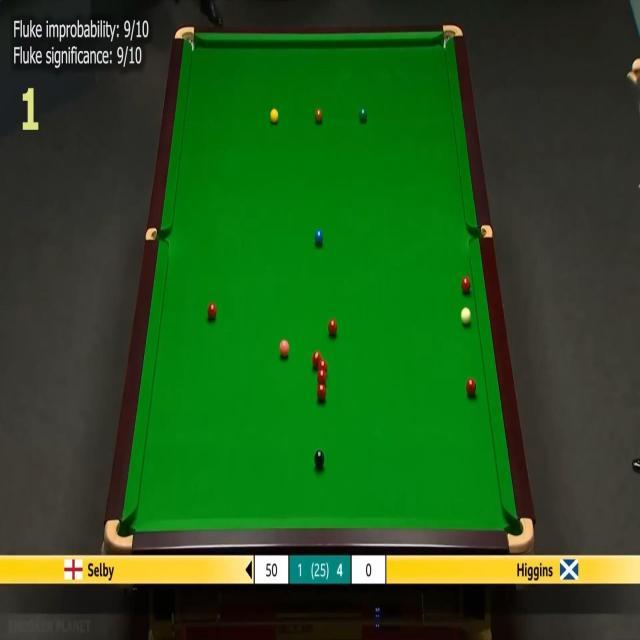Ball: (314, 450, 325, 467), (460, 306, 470, 324), (316, 384, 326, 401), (466, 378, 476, 395), (280, 339, 290, 356), (462, 276, 471, 292), (208, 303, 216, 319), (312, 351, 320, 367), (328, 320, 337, 334), (318, 370, 327, 384), (315, 229, 323, 244), (270, 108, 278, 123), (318, 360, 328, 372), (359, 108, 367, 122), (314, 109, 322, 122)
